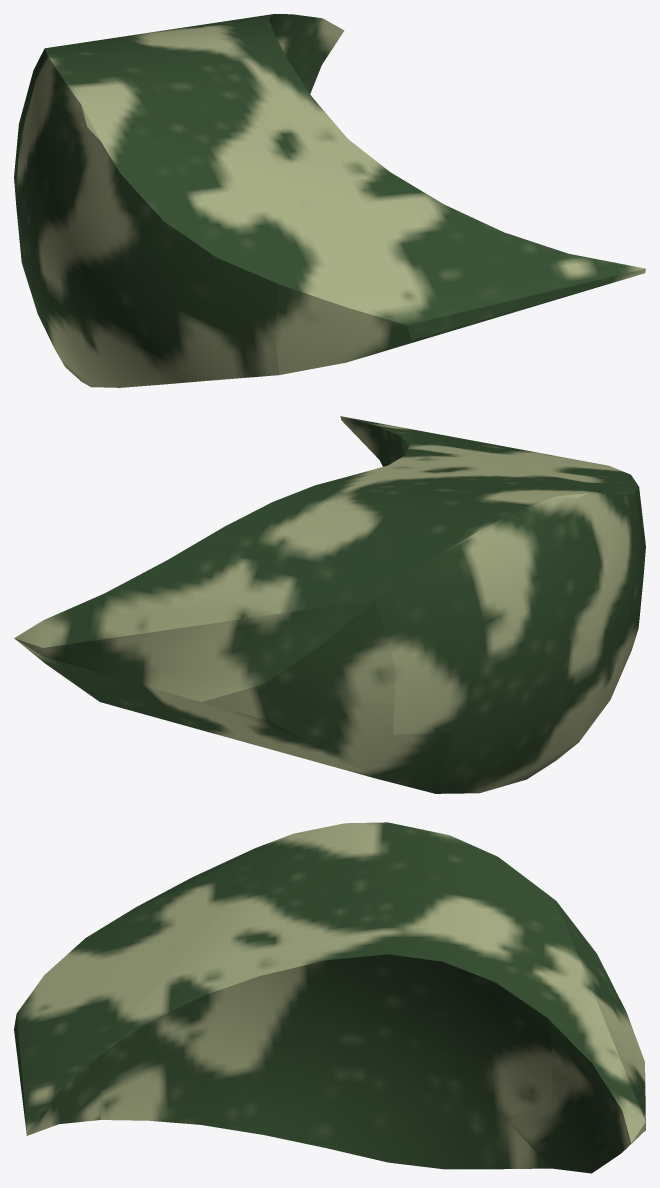
File: link_body_27_composite.obj
The picture shows the model from 3 angles, top to bottom: view 1: azimuth 30°, elevation 25°; view 2: azimuth 150°, elevation 25°; view 3: azimuth 270°, elevation 25°; orthographic projection. The views are drawn at different scales.
Visible parts, largest first — view 1: link_body_27; view 2: link_body_27; view 3: link_body_27.
Part boxes in pixels (bbox=[...]): link_body_27: bbox=[14, 14, 645, 387]; link_body_27: bbox=[14, 416, 645, 793]; link_body_27: bbox=[14, 822, 645, 1173].
Bounding box in the file's own units: 7.75 × 4.7 × 10.04.
Materials: 1 (1 with a texture image).
